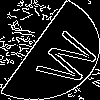W: (25, 25, 100, 90)
